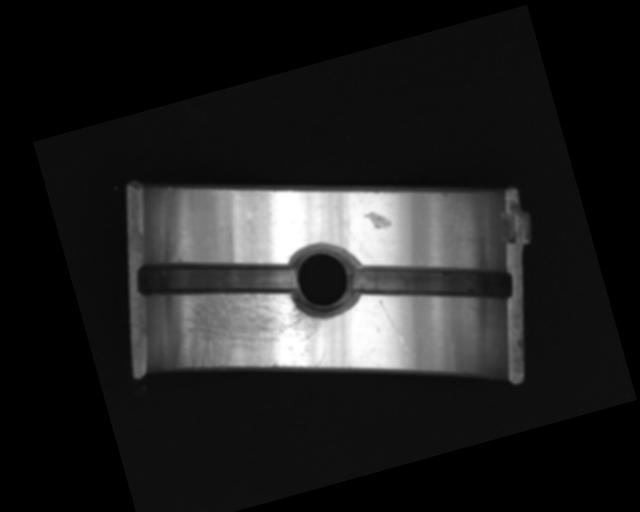bruise: (363, 207, 394, 234)
gap: (350, 227, 515, 335), (132, 225, 299, 329)
hole: (281, 235, 366, 325)
nick: (377, 295, 408, 355)
scratch: (157, 256, 333, 401)
